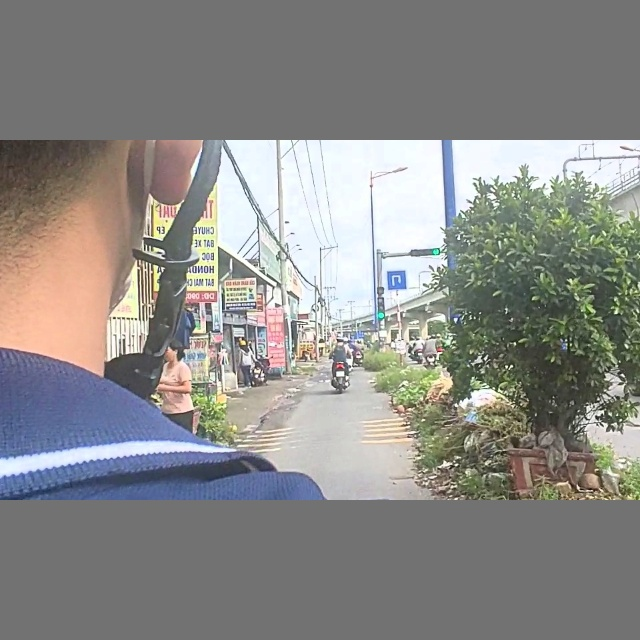I.409: (386, 269, 407, 293)
